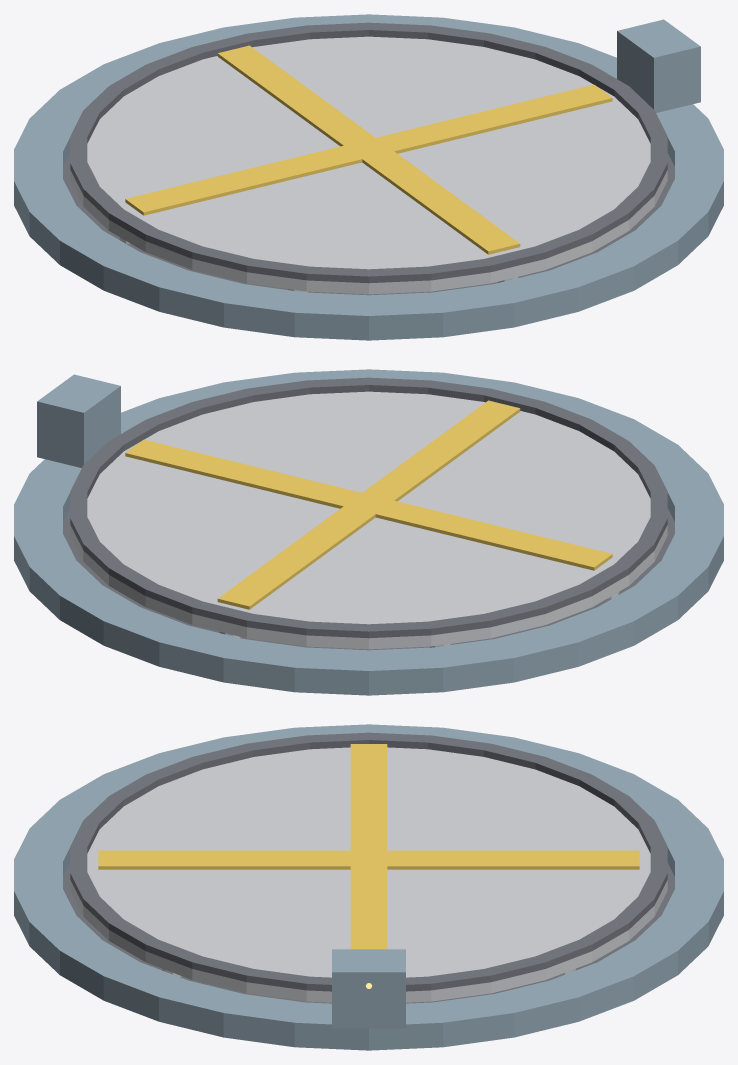
Rendered from animated-mechanisms-kit-turntable-6319f149__24606.glb.
The picture shows the model from 3 angles, top to bottom: view 1: azimuth 30°, elevation 25°; view 2: azimuth 150°, elevation 25°; view 3: azimuth 270°, elevation 25°; orthographic projection.
Parts seen in each view (by area): view 1: deck/steel, turntable, deck/iron, deck/accent; view 2: deck/steel, turntable, deck/iron, deck/accent; view 3: deck/steel, turntable, deck/iron, deck/accent.
Boxes of the visible parts, x1,y1,x2,y2 form: deck/steel: [70, 36, 667, 294]; turntable: [14, 14, 723, 340]; deck/iron: [70, 22, 667, 283]; deck/accent: [125, 45, 612, 254]; deck/steel: [70, 391, 667, 649]; turntable: [14, 369, 723, 695]; deck/iron: [70, 377, 667, 638]; deck/accent: [125, 400, 612, 609]; deck/steel: [70, 747, 667, 1002]; turntable: [14, 724, 723, 1050]; deck/iron: [70, 732, 667, 991]; deck/accent: [98, 744, 639, 949].
Size of the model in its own units: 5.85 by 0.72 by 5.77.
